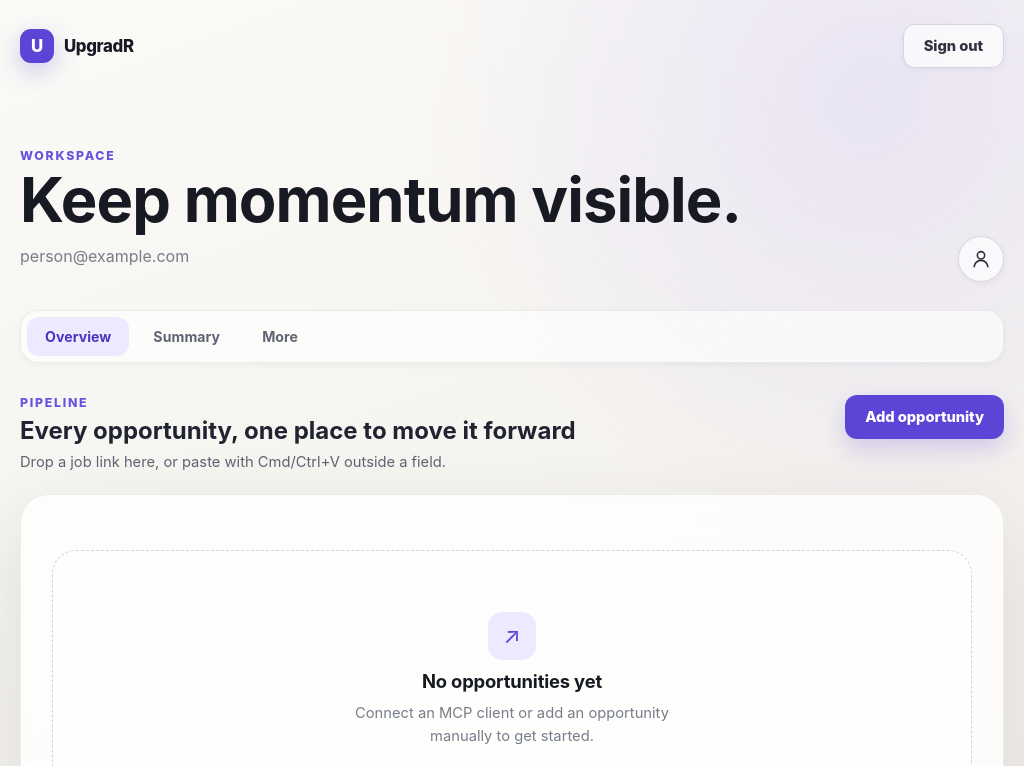
Scenario: App › moves the metrics/recent-opportunities content that used to be Overview into Summary
This screenshot has width=1024, height=766.
Expected: the heading "Keep momentum visible." is shown, [20,171,741,230]
Click the button "Summary": coordinates (187, 336) [135,317,238,356]
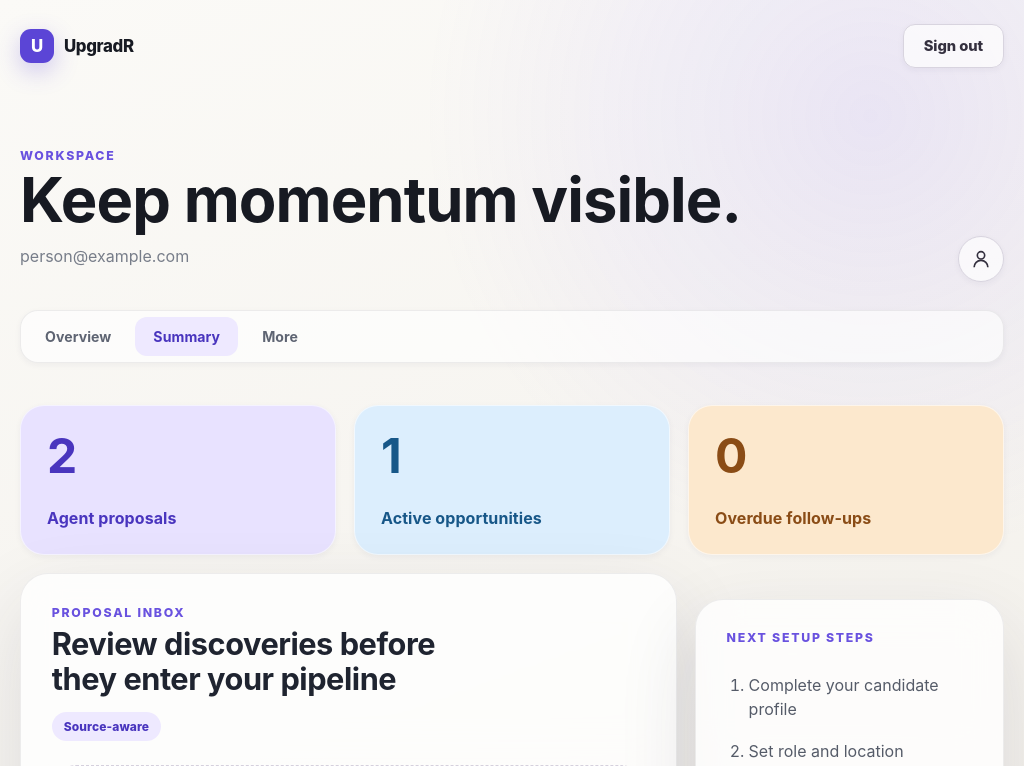
Expected: the element named "Job search overview" is shown, [20,405,1004,555]
Expected: the text "Agent proposals" is shown, [47,508,176,528]
